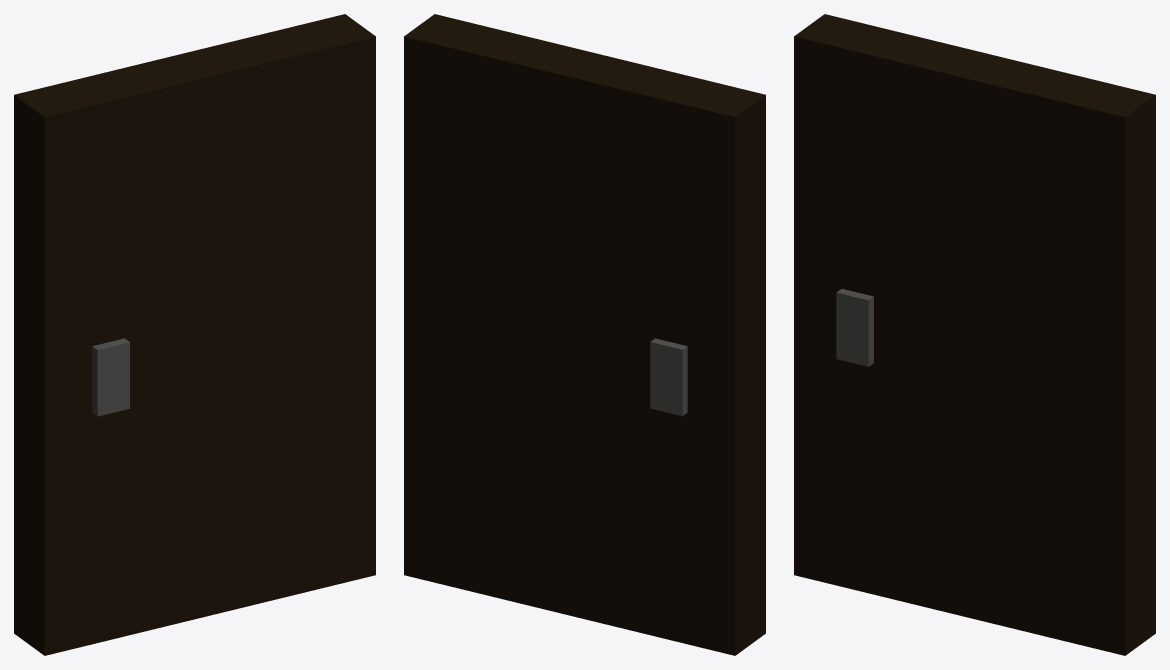
File: dveri1.fbx
3 views of the same model, side by side, from view 1: azimuth 30°, elevation 25°; view 2: azimuth 150°, elevation 25°; view 3: azimuth 330°, elevation 25° (orthographic).
Parts seen in each view (by area): view 1: Cube.003; view 2: Cube.003; view 3: Cube.003.
Part boxes in pixels (left/top/right/bottom): Cube.003: left=14, top=14, right=375, bottom=655; Cube.003: left=404, top=14, right=765, bottom=655; Cube.003: left=794, top=14, right=1155, bottom=655.
Bounding box in the file's own units: 960 × 1492 × 206.
